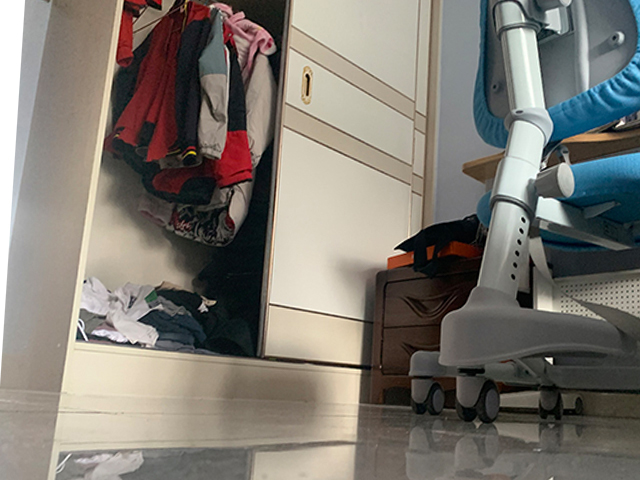cabinet: (2, 1, 440, 399), (370, 259, 478, 404)
